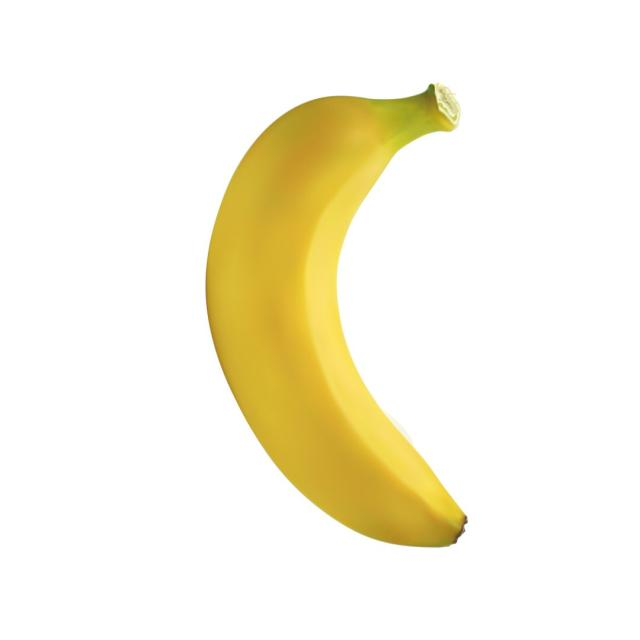Pisang: (194, 75, 471, 551)
